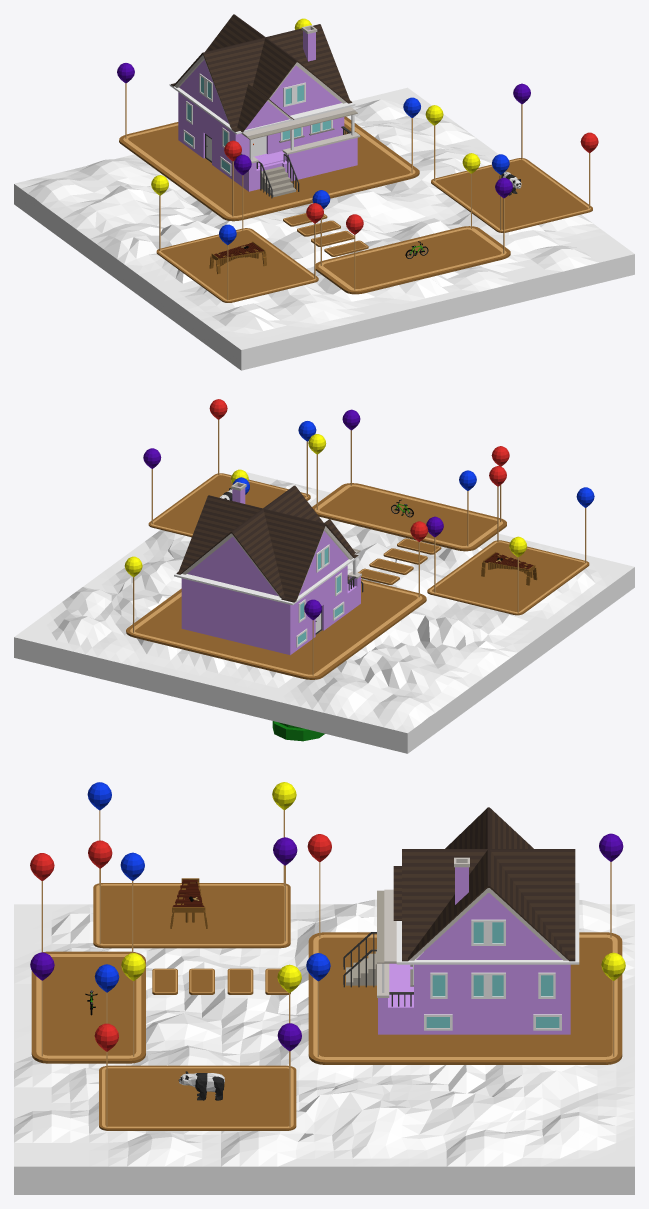
3 views of the same model, one above another, from view 1: azimuth 30°, elevation 25°; view 2: azimuth 150°, elevation 25°; view 3: azimuth 270°, elevation 25° (orthographic). The views are drawn at different scales.
Visible parts, largest first — view 1: Cube.013, Cube.391, OBJRANDOM_MARIMBA; view 2: Cube.013, Cube.391, OBJRANDOM_MARIMBA, UNDERGROUND_PIPES; view 3: Cube.013, Cube.391, OBJRANDOM_MARIMBA, ANIMAL_PANDA.
Boxes of the visible parts, bbox=[...] form: Cube.013: bbox=[14, 18, 634, 370]; Cube.391: bbox=[169, 14, 360, 198]; OBJRANDOM_MARIMBA: bbox=[209, 241, 266, 274]; Cube.013: bbox=[14, 399, 634, 753]; Cube.391: bbox=[174, 482, 363, 655]; OBJRANDOM_MARIMBA: bbox=[481, 551, 537, 585]; UNDERGROUND_PIPES: bbox=[272, 721, 324, 741]; Cube.013: bbox=[14, 782, 634, 1194]; Cube.391: bbox=[343, 807, 579, 1034]; OBJRANDOM_MARIMBA: bbox=[170, 878, 207, 928]; ANIMAL_PANDA: bbox=[178, 1071, 224, 1100].
Bounding box in the file's own units: 4000 × 2271 × 4000.
Materials: 32 (1 with a texture image).
